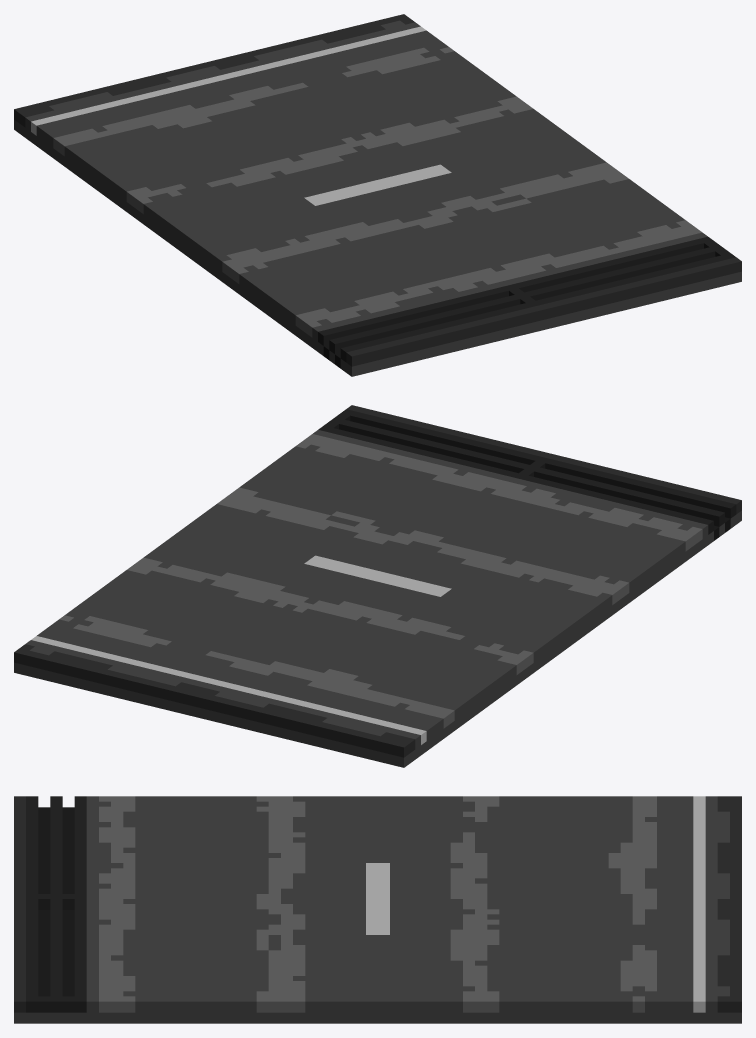
File: Road0.obj
3 renders of one model, top to bottom at view 1: azimuth 30°, elevation 25°; view 2: azimuth 150°, elevation 25°; view 3: azimuth 270°, elevation 25°, orthographic. The views are drawn at different scales.
Bounding box in the file's own units: 4 × 0.2 × 6.
1 material, 1 textured.
